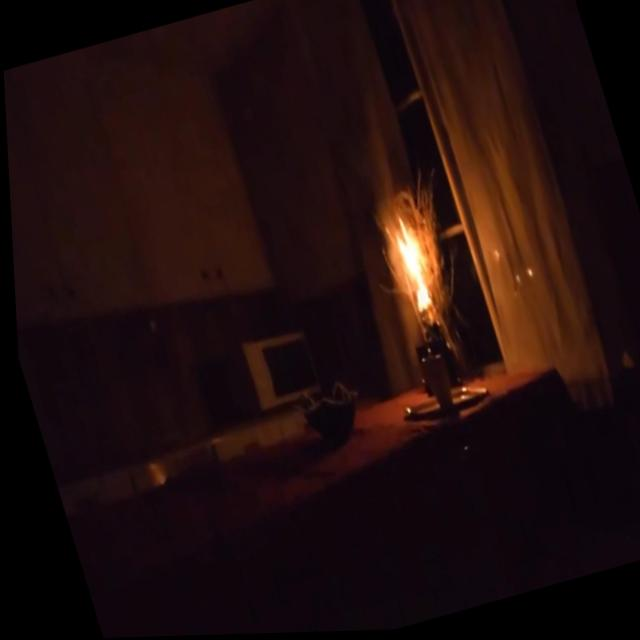fire: (374, 203, 441, 330)
